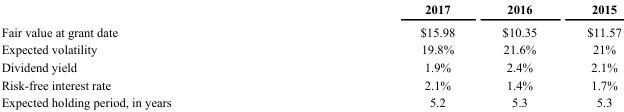table: (0, 1, 620, 109)
table column: (0, 1, 295, 109), (295, 1, 477, 109), (477, 1, 561, 109), (561, 1, 620, 109)
table column header: (0, 1, 620, 19)
table row: (0, 19, 620, 40), (0, 1, 620, 19), (0, 57, 620, 75), (0, 75, 620, 93), (0, 40, 620, 57), (0, 93, 620, 109)
